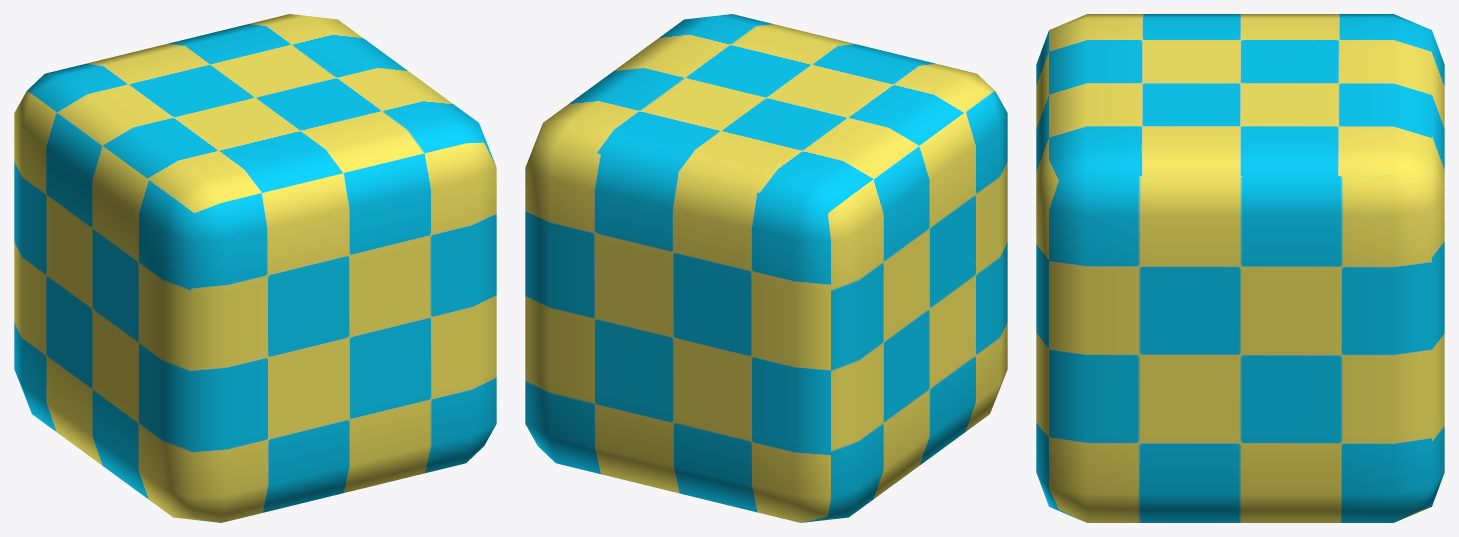
Rendered from block_itimatu2.fbx.
3 views of the same model, side by side, from view 1: azimuth 30°, elevation 25°; view 2: azimuth 150°, elevation 25°; view 3: azimuth 270°, elevation 25° (orthographic). The views are drawn at different scales.
Visible parts, largest first — view 1: pCube1; view 2: pCube1; view 3: pCube1.
Boxes of the visible parts, <box> form: pCube1: <box>14,14,496,522</box>; pCube1: <box>525,14,1007,522</box>; pCube1: <box>1036,14,1444,522</box>.
Size of the model in its own units: 2.06 by 2.06 by 2.06.
Materials: 1 (1 with a texture image).
